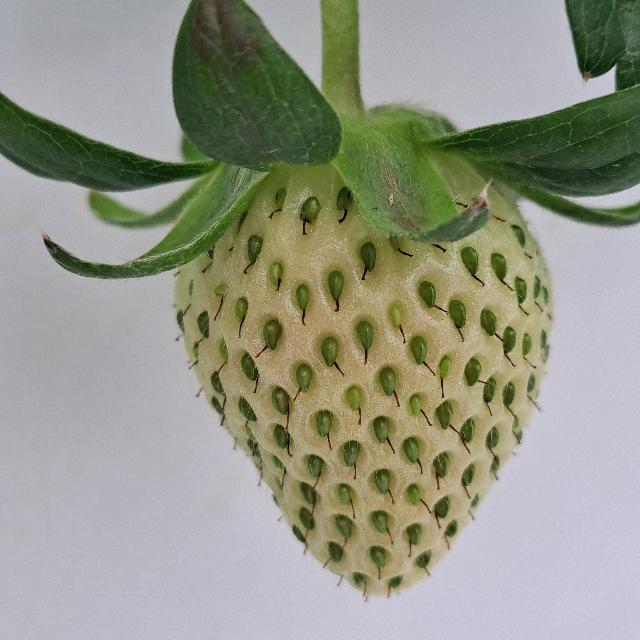Health_50: (174, 146, 554, 596)
